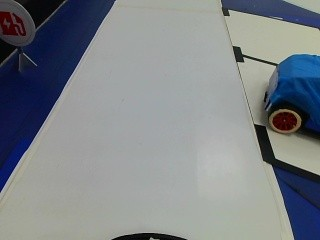battery: (0, 0, 36, 47)
car: (260, 51, 318, 135)
